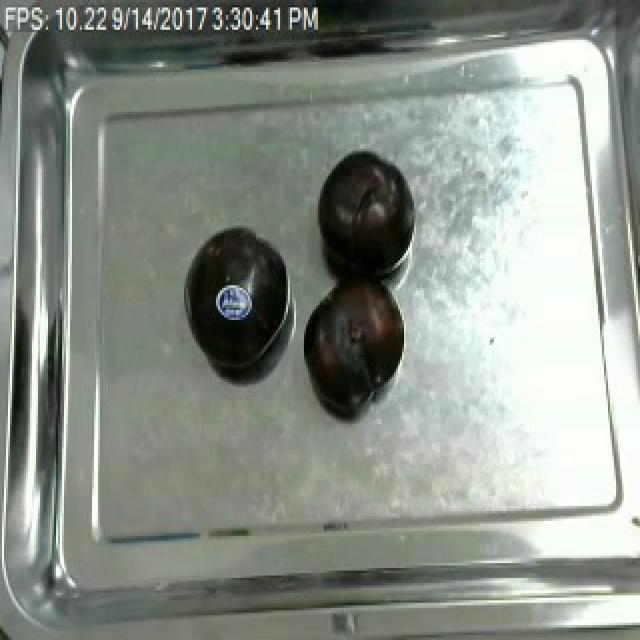Fruit: (180, 218, 296, 375), (298, 273, 406, 414), (312, 147, 414, 280), (210, 273, 258, 327)
